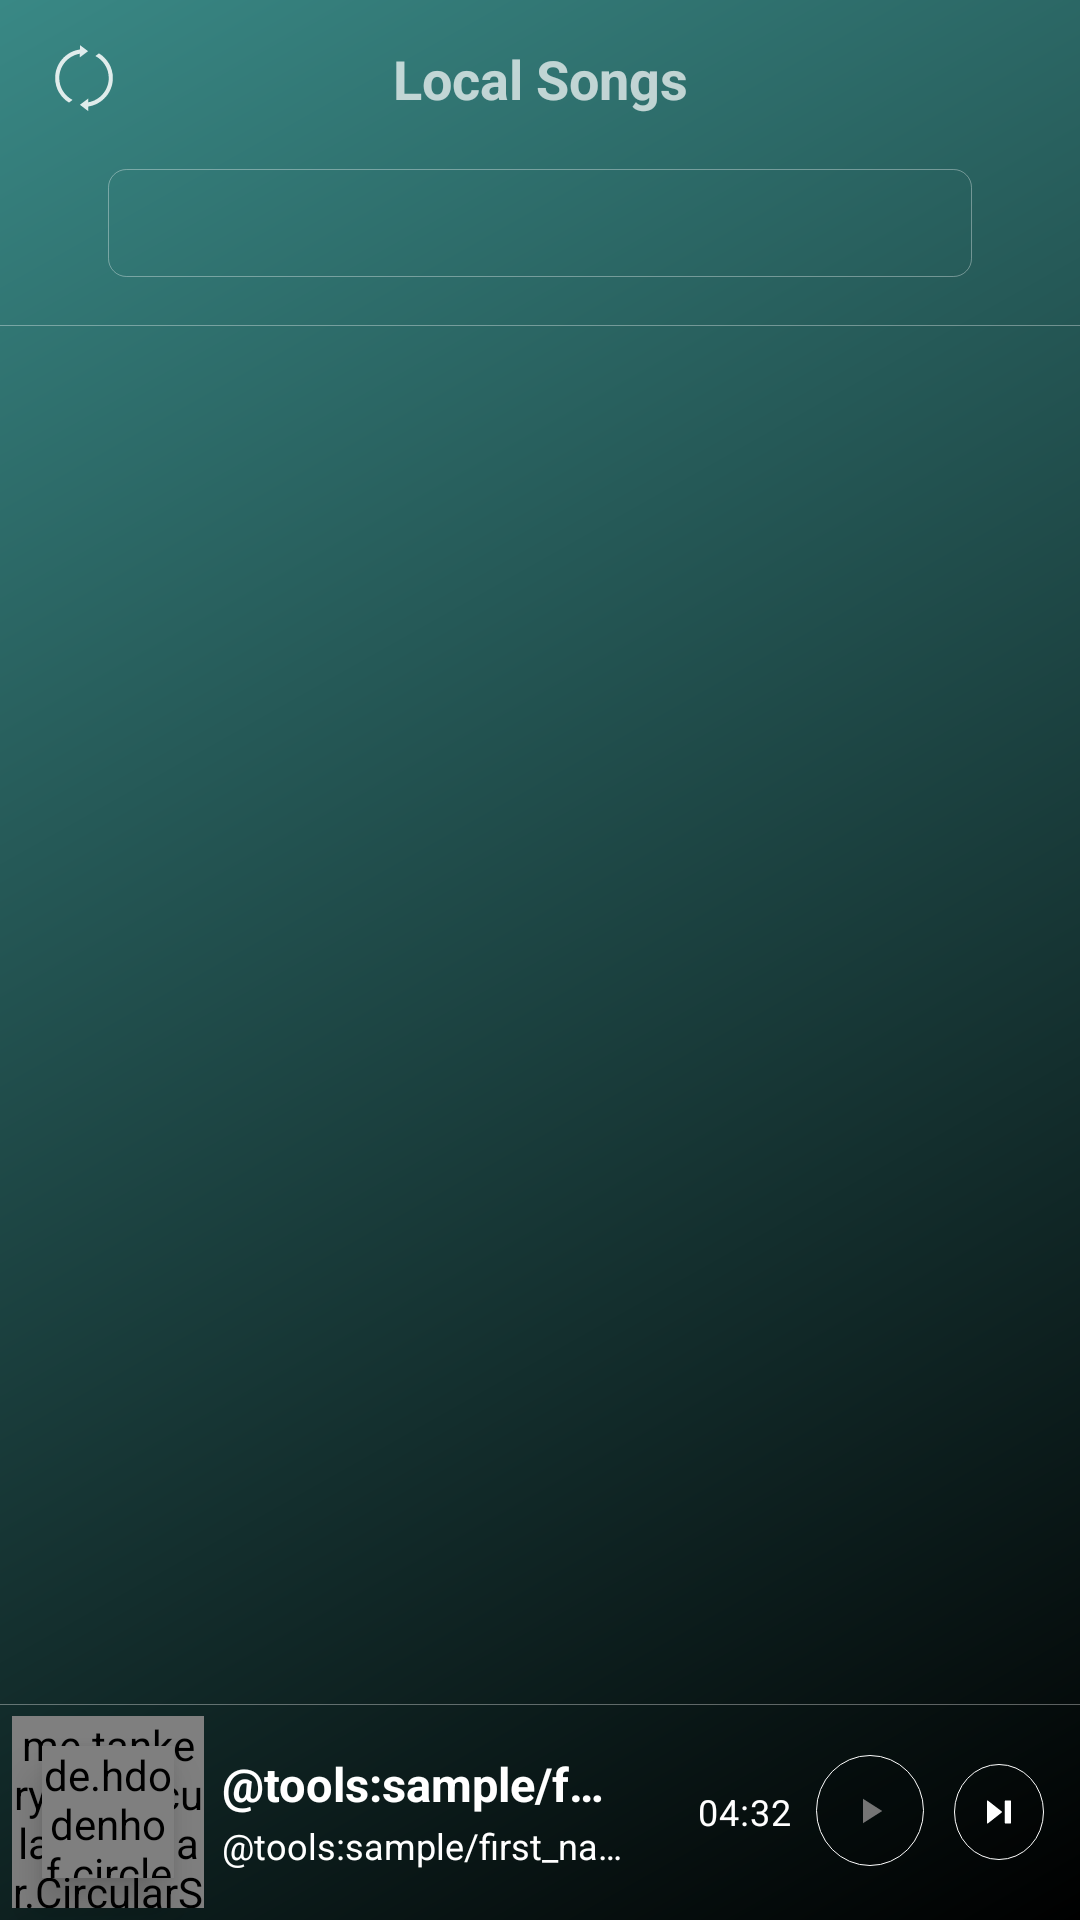

Icon click points for this 1080x1920 phone screenshot, format (x,y):
skip next: (999,1812)
sync: (84,78)
